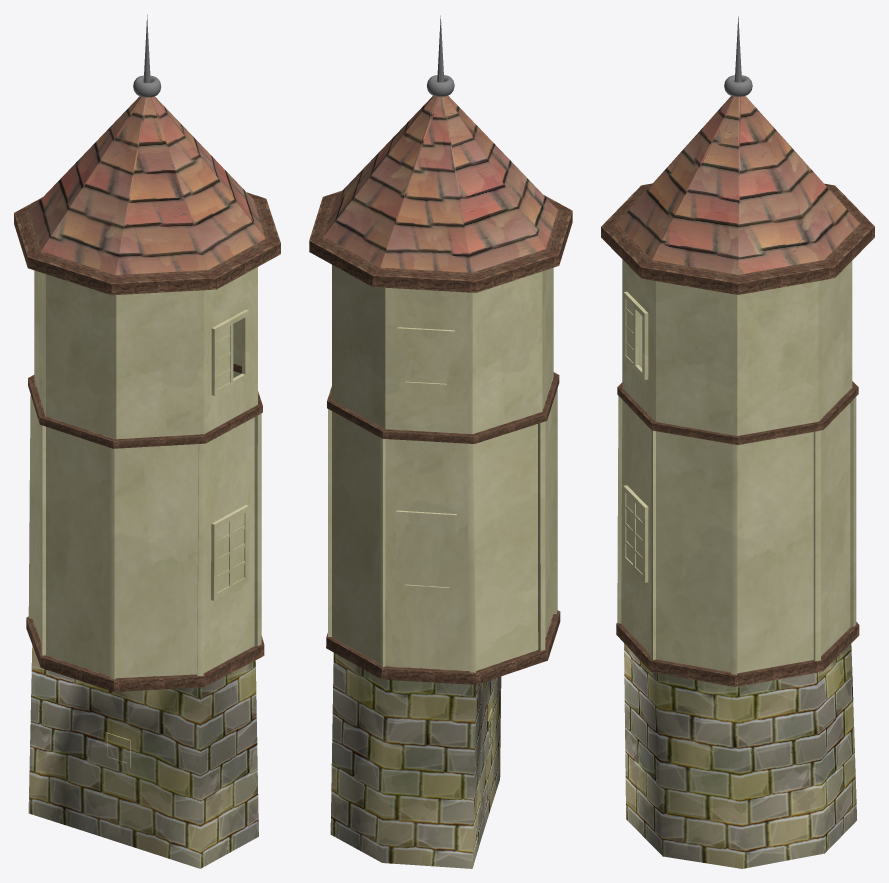
Rendered from tower3.fbx.
3 views of the same model, side by side, from view 1: azimuth 30°, elevation 25°; view 2: azimuth 150°, elevation 25°; view 3: azimuth 270°, elevation 25° (orthographic).
Parts seen in each view (by area): view 1: Cylinder002, top6, top5, top7, low5, low6, mid, low4, top4, mid2, wood, top8; view 2: Cylinder002, top3, top4, top2, low7, low8, mid4, low, top5, mid3, mid5, top; view 3: Cylinder002, top8, top, low3, low2, top7, top2, mid6, mid7, low, low4.
Boxes of the visible parts, box(x1,y1,x2,y2) form: Cylinder002: box(28, 15, 265, 868); top6: box(111, 270, 216, 295); top5: box(27, 251, 115, 295); top7: box(209, 238, 280, 289); low5: box(114, 674, 204, 691); low6: box(40, 656, 114, 691); mid: box(113, 434, 205, 448); low4: box(203, 644, 264, 686); top4: box(14, 211, 40, 266); mid2: box(40, 416, 113, 448); wood: box(203, 404, 262, 443); top8: box(253, 198, 280, 242); Cylinder002: box(323, 15, 557, 868); top3: box(372, 267, 475, 292); top4: box(472, 249, 559, 292); top2: box(309, 236, 379, 286); low7: box(381, 666, 476, 684); low8: box(476, 648, 547, 684); mid4: box(383, 429, 474, 443); low: box(326, 637, 383, 679); top5: box(546, 210, 572, 264); mid3: box(473, 411, 546, 443); mid5: box(327, 401, 384, 438); top: box(309, 197, 335, 240); Cylinder002: box(617, 16, 859, 868); top8: box(641, 260, 738, 294); top: box(738, 260, 834, 294); low3: box(650, 659, 735, 686); low2: box(735, 660, 822, 686); top7: box(601, 223, 651, 277); top2: box(824, 223, 874, 277); mid6: box(737, 421, 822, 444); mid7: box(652, 422, 738, 444); low: box(821, 624, 859, 671); low4: box(616, 623, 655, 671).
Bounding box in the file's own units: 185 × 601 × 185.
